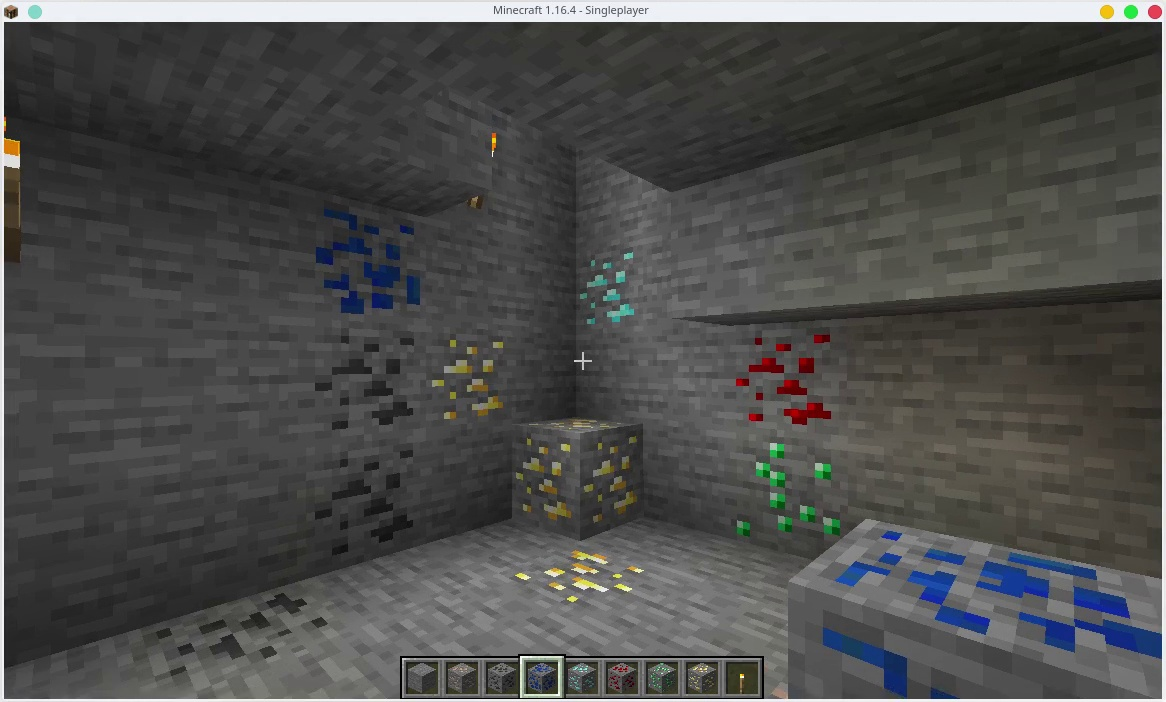gold: (511, 414, 640, 529), (510, 545, 652, 611), (429, 332, 506, 427), (684, 655, 717, 695)
